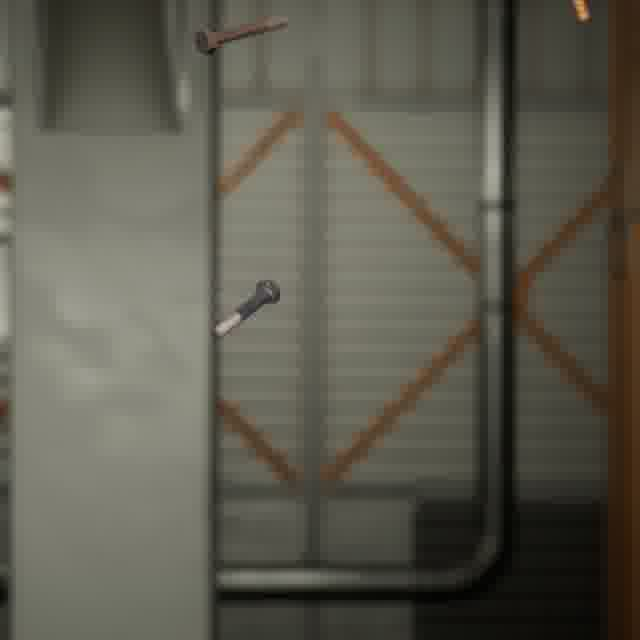bolt: (206, 275, 285, 344), (190, 10, 292, 59), (564, 0, 595, 26)
